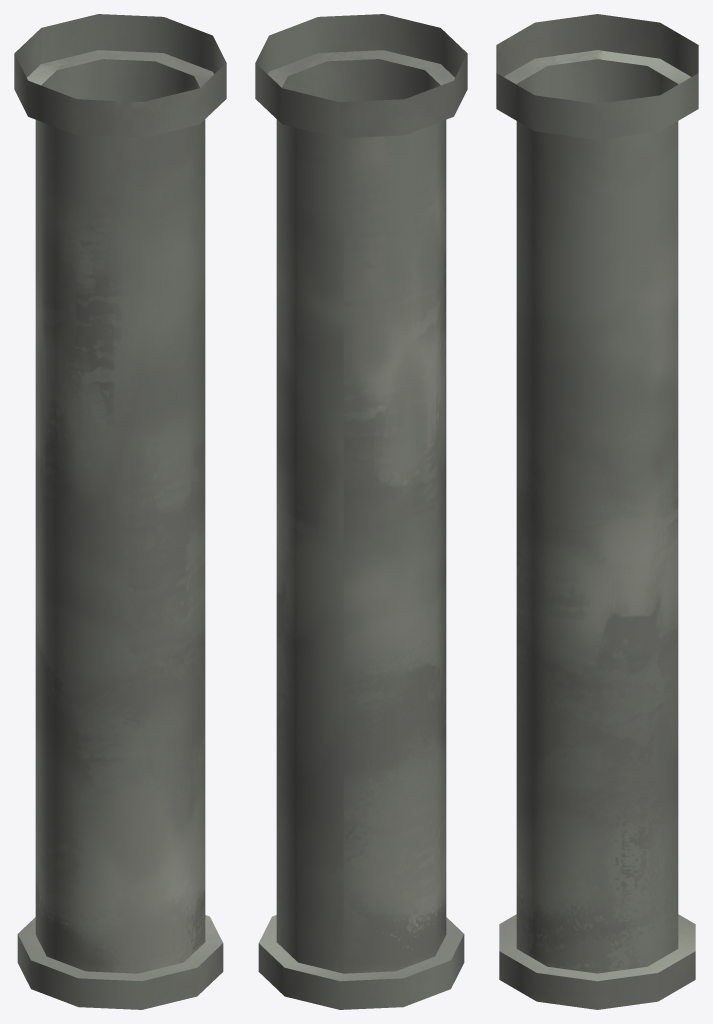
File: pipe_2_03.fbx
3 views of the same model, side by side, from view 1: azimuth 30°, elevation 25°; view 2: azimuth 150°, elevation 25°; view 3: azimuth 270°, elevation 25° (orthographic).
Parts seen in each view (by area): view 1: Object036; view 2: Object036; view 3: Object036.
Boxes of the visible parts, x1=… form: Object036: x1=14, y1=14, x2=226, y2=1009; Object036: x1=255, y1=14, x2=467, y2=1009; Object036: x1=496, y1=14, x2=698, y2=1009.
Size of the model in its own units: 7.8 by 36.7 by 7.42.
